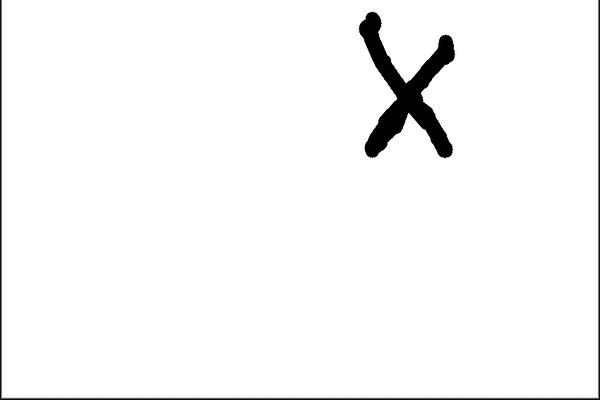X: (335, 4, 469, 179)
